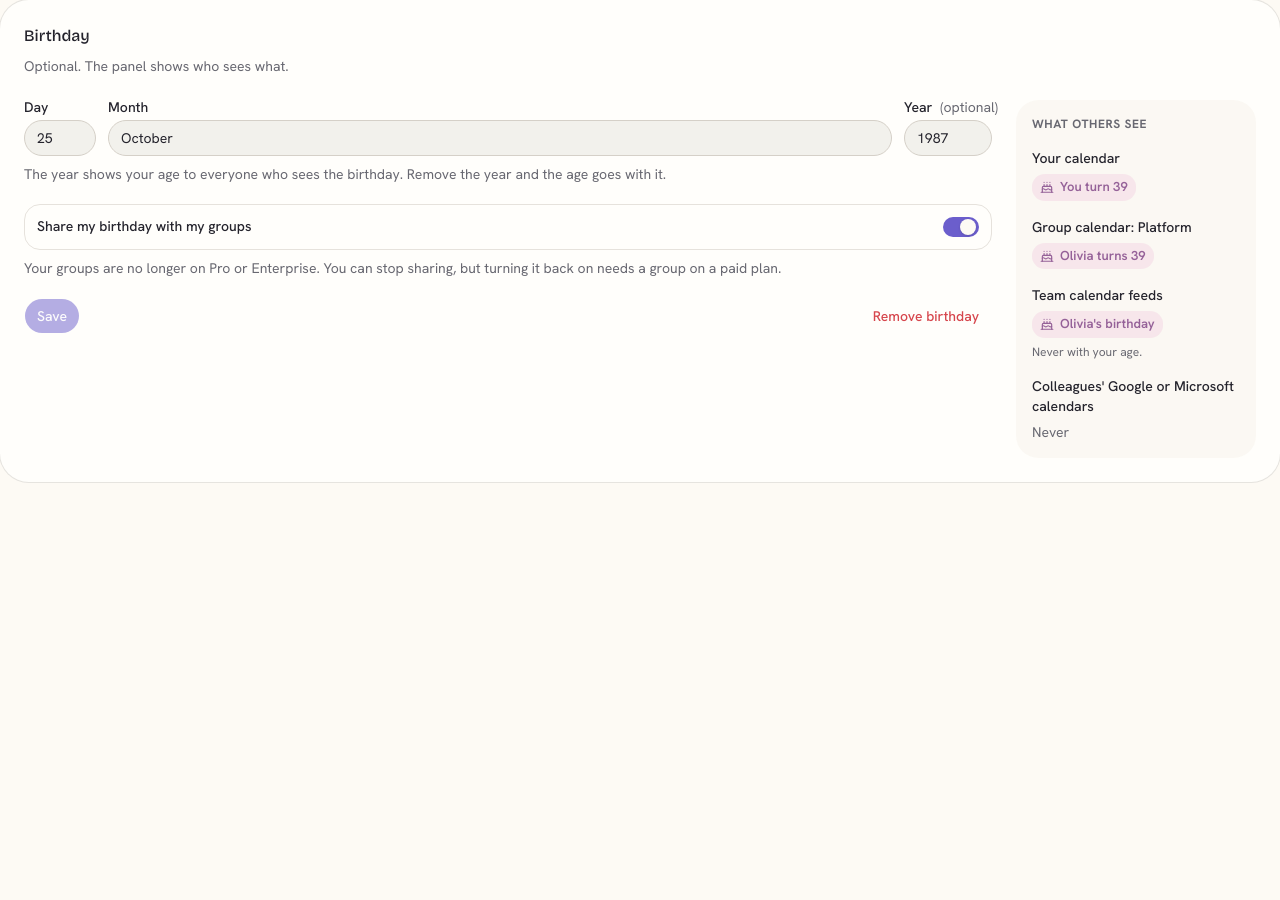
Test: BirthdayCard › lets a share outlive a lapse only until it is turned off
The image size is (1280, 900).
Expected: the text "Your groups are no longer on Pro or Enterprise" is shown, [24,259,781,277]
Click the switch named "Share my birthday with my groups" at point(961, 227), box [943,217,979,237]
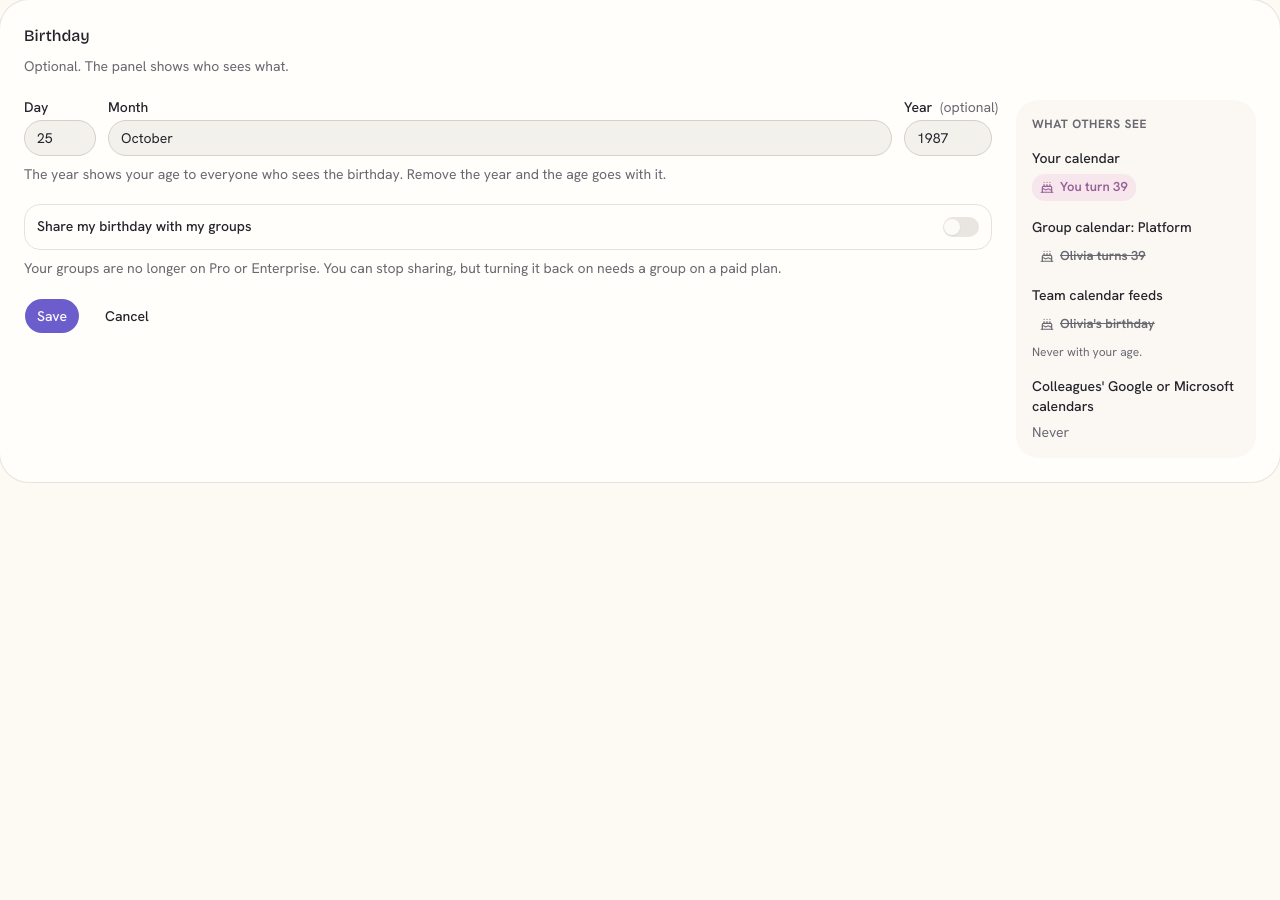
Result: the switch named "Share my birthday with my groups" is not checked at [943,217,979,237]
Result: the switch named "Share my birthday with my groups" is disabled at [943,217,979,237]
Click the button "Save" at point(52, 316), box [24,298,80,334]
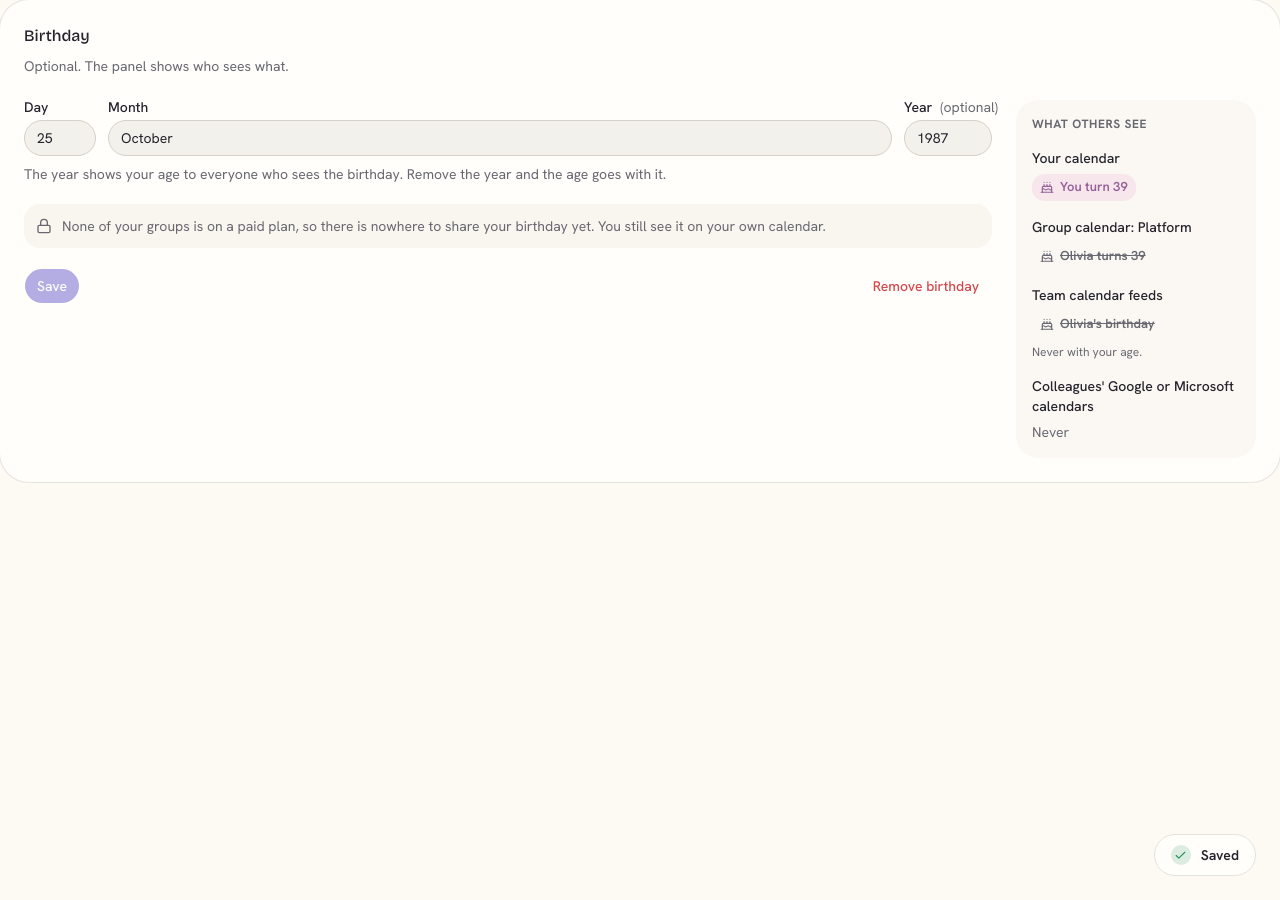
Result: the text "None of your groups is on a paid plan" is shown at [62,217,826,235]
